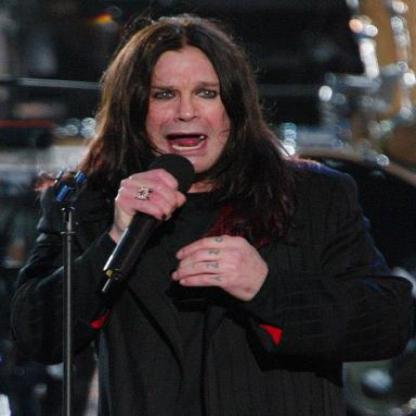face: (130, 21, 244, 176)
